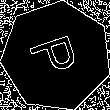P_E: (27, 31, 86, 82)
